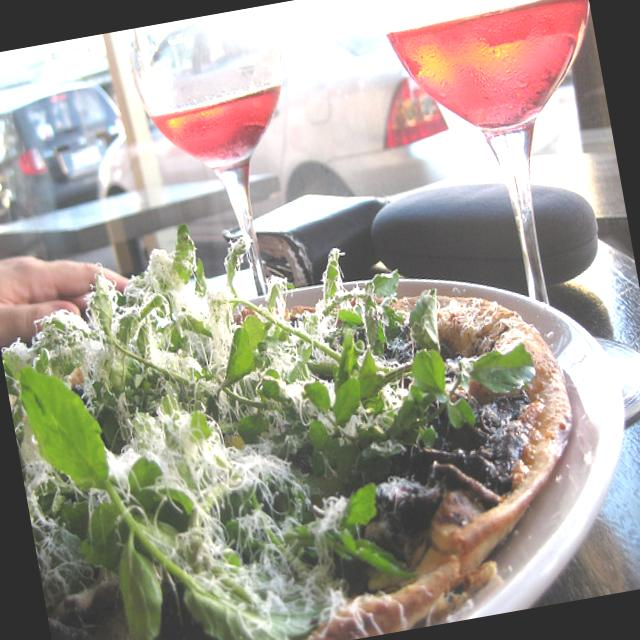Vehicle: (71, 0, 567, 240), (0, 71, 145, 253)
